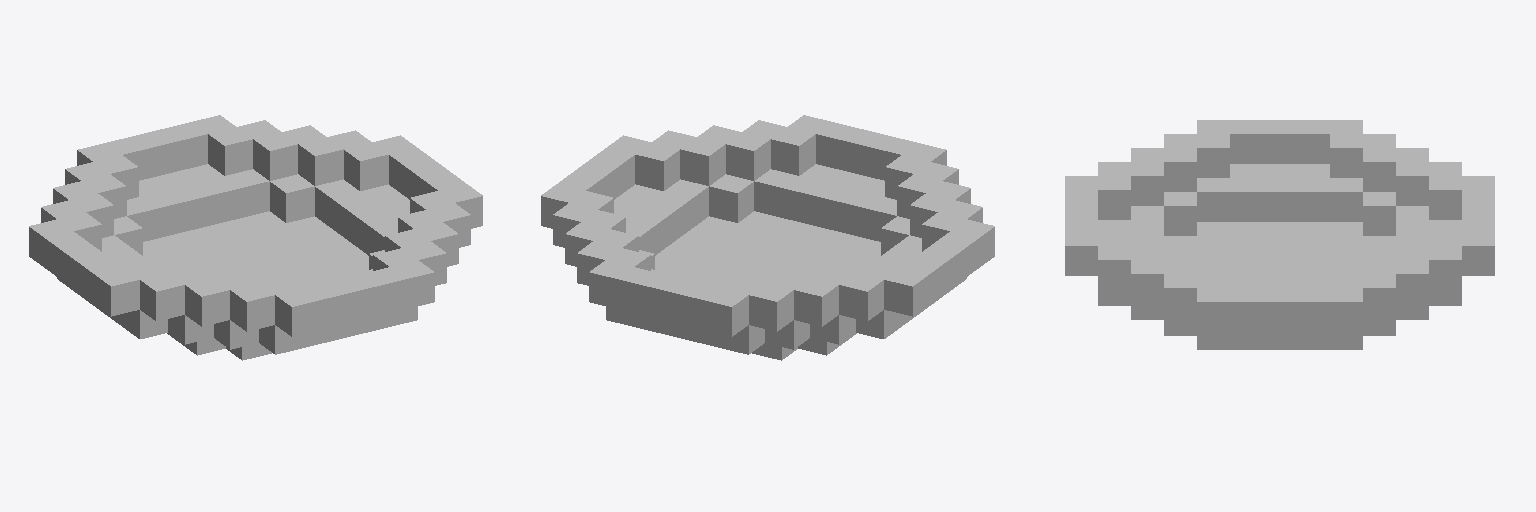
Rendered from KitchenOPEN_Export-0.obj.
3 renders of one model, left to right at view 1: azimuth 30°, elevation 25°; view 2: azimuth 150°, elevation 25°; view 3: azimuth 270°, elevation 25°, orthographic.
Parts seen in each view (by area): view 1: KitchenOPEN_Export-0; view 2: KitchenOPEN_Export-0; view 3: KitchenOPEN_Export-0.
Part boxes in pixels (left/top/right/bottom): KitchenOPEN_Export-0: left=29, top=115, right=482, bottom=360; KitchenOPEN_Export-0: left=541, top=115, right=994, bottom=360; KitchenOPEN_Export-0: left=1065, top=120, right=1494, bottom=349.
Size of the model in its own units: 13 by 3 by 13.